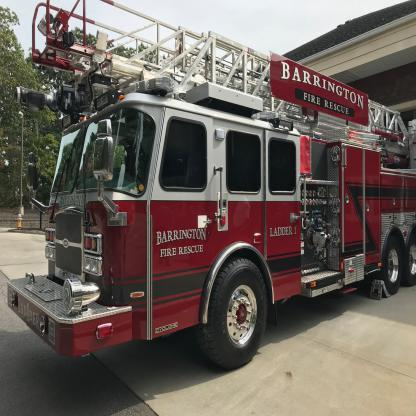fire-truck: (17, 5, 410, 416)
